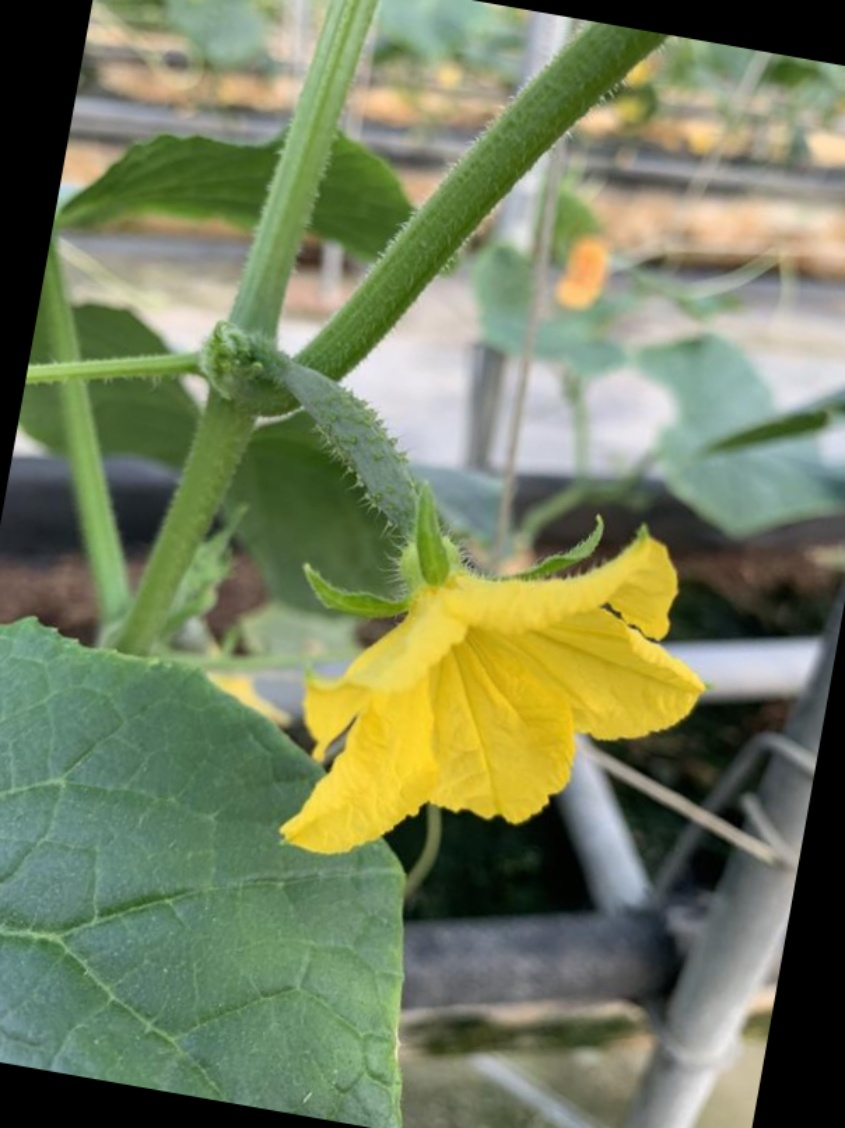flowering: (232, 358, 719, 865)
